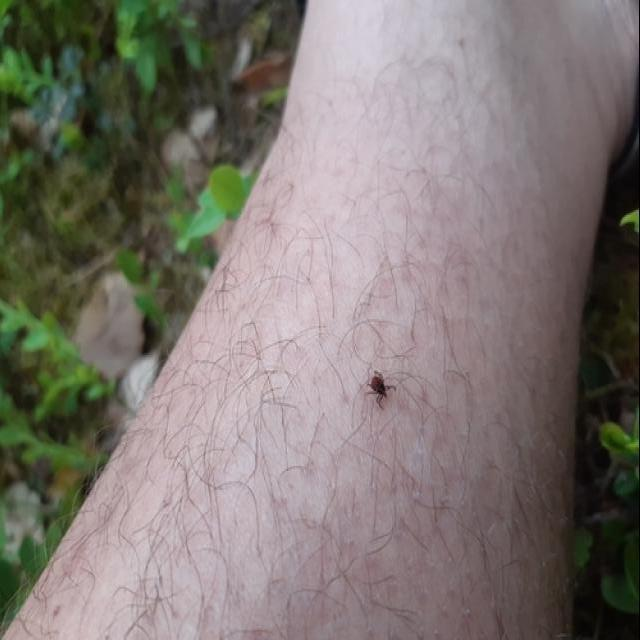Ixodes Ricinus-F: (364, 369, 398, 410)
